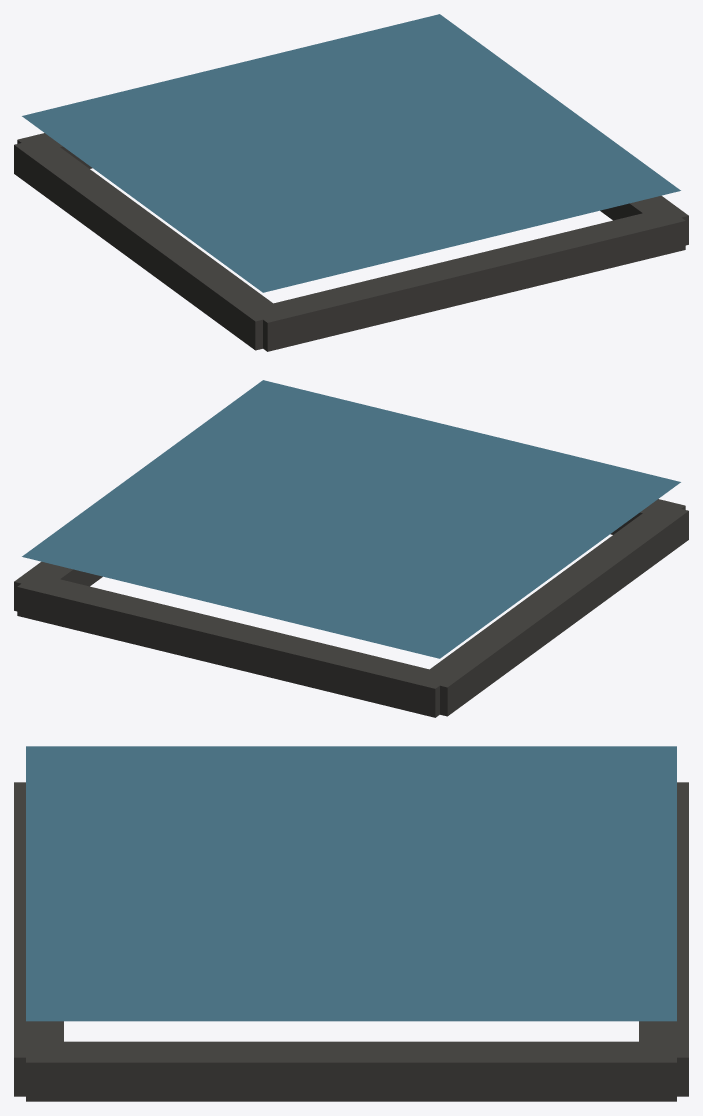
Rendered from water_surface.glb.
The picture shows the model from 3 angles, top to bottom: view 1: azimuth 30°, elevation 25°; view 2: azimuth 150°, elevation 25°; view 3: azimuth 270°, elevation 25°; orthographic projection. The views are drawn at different scales.
Parts seen in each view (by area): view 1: WaterSurface; view 2: WaterSurface; view 3: WaterSurface.
Part boxes in pixels (box(x1,y1,x2,y2)): WaterSurface: box(14, 14, 688, 351); WaterSurface: box(14, 380, 688, 717); WaterSurface: box(14, 746, 688, 1101).
Bounding box in the file's own units: 4.06 × 0.5 × 4.06.
